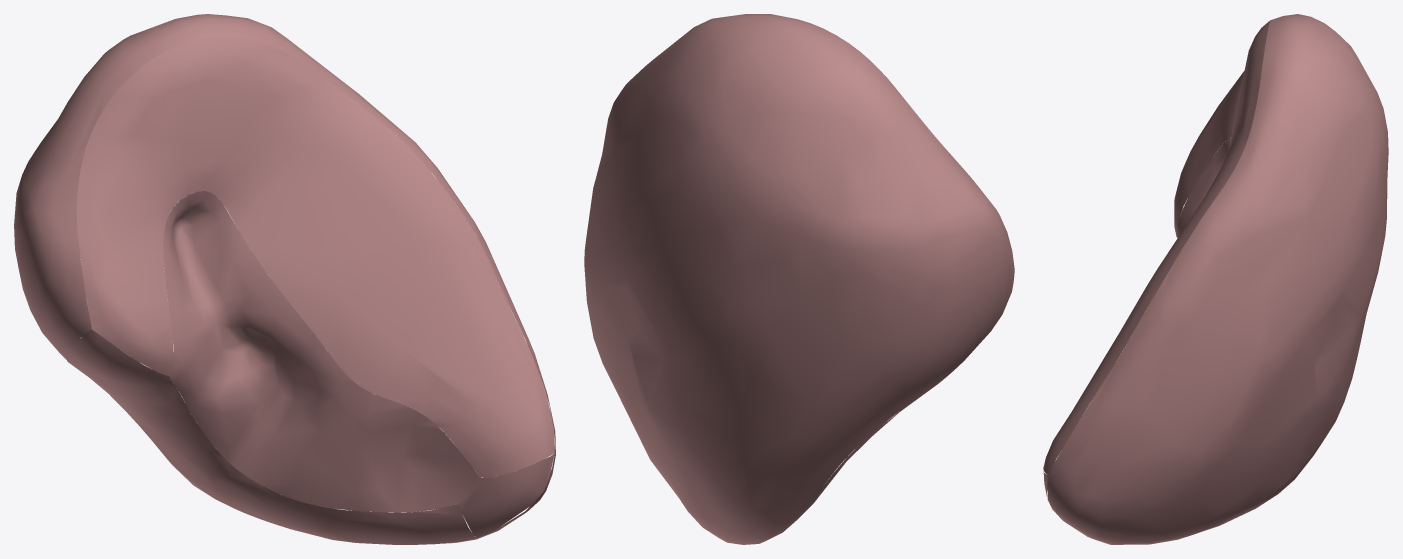
The model's file is vh_f_spleen-20.glb.
3 renders of one model, left to right at view 1: azimuth 30°, elevation 25°; view 2: azimuth 150°, elevation 25°; view 3: azimuth 270°, elevation 25°, orthographic. The views are drawn at different scales.
Visible parts, largest first — view 1: VH_F_gastric_surface_of_spleen, VH_F_hilum_of_spleen, VH_F_diaphragmatic_surface_of_spleen, VH_F_renal_surface_of_spleen, VH_F_colic_surface_of_spleen; view 2: VH_F_diaphragmatic_surface_of_spleen; view 3: VH_F_diaphragmatic_surface_of_spleen, VH_F_gastric_surface_of_spleen, VH_F_hilum_of_spleen.
Boxes of the visible parts, left/top/right/bottom form: VH_F_gastric_surface_of_spleen: left=77, top=37, right=554, bottom=477; VH_F_hilum_of_spleen: left=163, top=191, right=479, bottom=512; VH_F_diaphragmatic_surface_of_spleen: left=14, top=14, right=555, bottom=543; VH_F_renal_surface_of_spleen: left=66, top=329, right=477, bottom=544; VH_F_colic_surface_of_spleen: left=458, top=454, right=554, bottom=537; VH_F_diaphragmatic_surface_of_spleen: left=584, top=14, right=1014, bottom=544; VH_F_diaphragmatic_surface_of_spleen: left=1047, top=14, right=1388, bottom=544; VH_F_gastric_surface_of_spleen: left=1043, top=21, right=1269, bottom=475; VH_F_hilum_of_spleen: left=1177, top=137, right=1231, bottom=237.
Size of the model in its own units: 0.0897 by 0.1023 by 0.0709.
